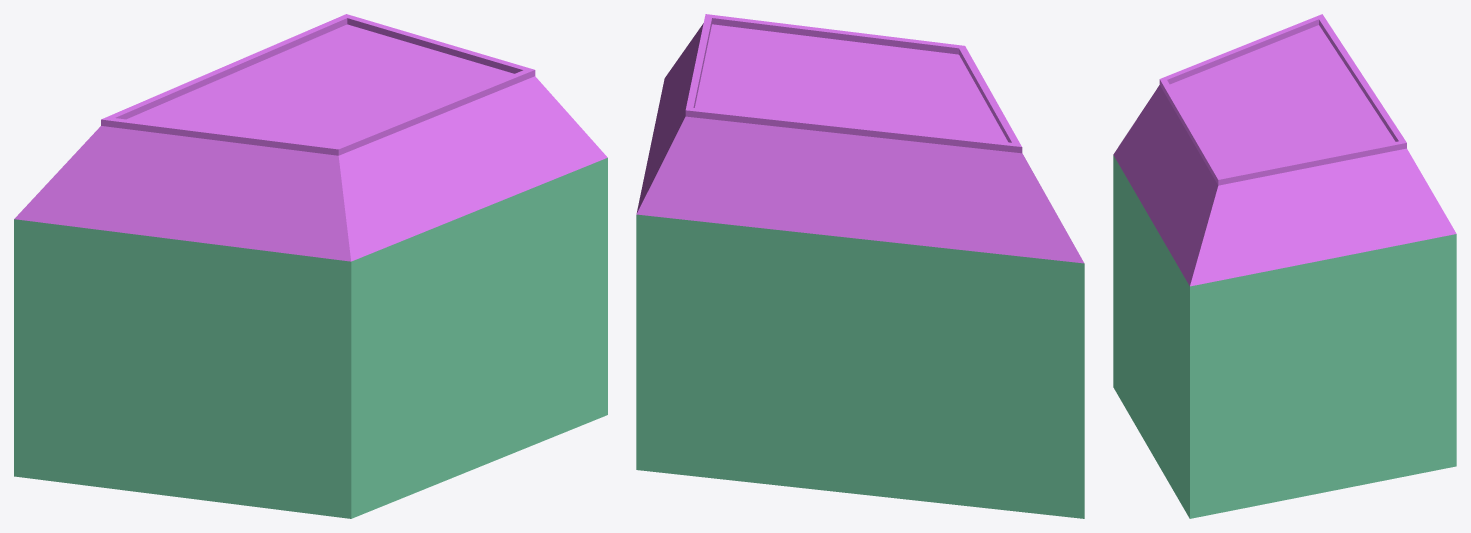
File: Batiment11.fbx
3 renders of one model, left to right at view 1: azimuth 30°, elevation 25°; view 2: azimuth 150°, elevation 25°; view 3: azimuth 270°, elevation 25°, orthographic. The views are drawn at different scales.
Visible parts, largest first — view 1: Batiment11; view 2: Batiment11; view 3: Batiment11.
Boxes of the visible parts, x1,y1,x2,y2 form: Batiment11: [14, 14, 607, 518]; Batiment11: [636, 14, 1084, 518]; Batiment11: [1113, 14, 1456, 518].
Size of the model in its own units: 50.56 by 33.03 by 32.75.
